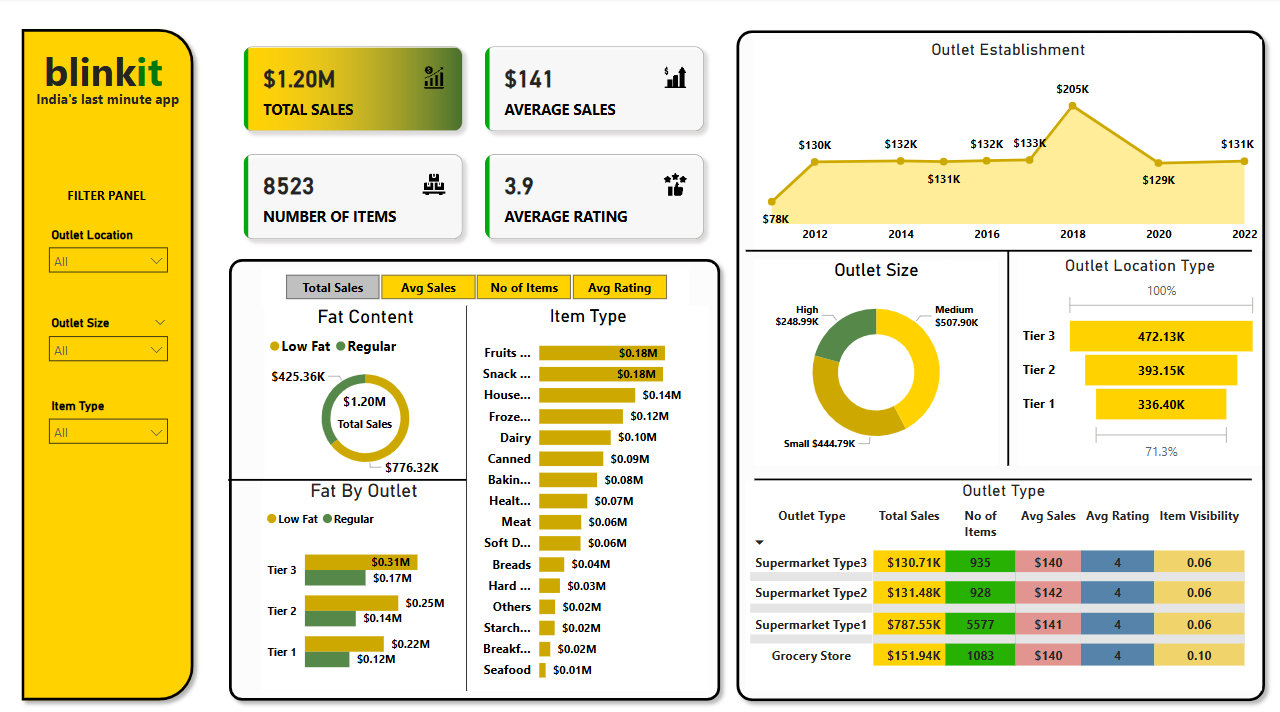

Layout of this report page (visuals, bound fields, positions):
{"tool":"powerbi","page":{"name":"Page 1","canvas":[1400,800],"ordinal":0},"visuals":[{"type":"shape","box":[18,25.5,205.6,750.4],"z":0},{"type":"textbox","box":[46.5,46.5,150.1,124.6],"z":1000},{"type":"textbox","box":[30,96.1,181.6,48],"z":2000},{"type":"cardVisual","fields":{"Data":["BlinkIT Grocery Data.Total Sales","BlinkIT Grocery Data.Avg Sales","BlinkIT Grocery Data.No of Items","BlinkIT Grocery Data.Avg Rating"]},"box":[252.2,36.8,537.2,245.4],"z":3000},{"type":"shape","box":[244.6,276.2,553.8,499.8],"z":4000},{"type":"donutChart","title":"Fat Content","fields":{"Y":["BlinkIT Grocery Data.Total Sales"],"Category":["BlinkIT Grocery Data.Item Fat Content"]},"box":[291.2,336.2,220.6,190.6],"z":5000},{"type":"slicer","fields":{"Values":["Metrics.Metrics"]},"box":[289.7,295.7,465.3,40.5],"z":6000},{"type":"card","fields":{"Values":["BlinkIT Grocery Data.Total Sales"]},"box":[360.2,421.7,82.5,60],"z":7000},{"type":"clusteredBarChart","title":"Fat By Outlet","fields":{"Y":["BlinkIT Grocery Data.Total Sales"],"Category":["BlinkIT Grocery Data.Outlet Location Type"],"Series":["BlinkIT Grocery Data.Item Fat Content"]},"box":[289.7,526.8,222.1,229.6],"z":8000},{"type":"shape","box":[252.1,276.2,259.6,499.8],"z":9000},{"type":"shape","box":[235.6,336.2,553.8,420.2],"z":10000},{"type":"barChart","title":"Item Type","fields":{"Y":["BlinkIT Grocery Data.Total Sales"],"Category":["BlinkIT Grocery Data.Item Type"]},"box":[513.3,336.2,264.2,420.2],"z":11000},{"type":"shape","box":[797.6,27.3,594.4,749.8],"z":12000},{"type":"lineChart","title":"Outlet Establishment","fields":{"Y":["BlinkIT Grocery Data.Total Sales"],"Category":["BlinkIT Grocery Data.Outlet Establishment Year"]},"box":[826.2,46.4,553.5,230.4],"z":13000},{"type":"shape","box":[816.6,126.8,552.2,299.9],"z":14000},{"type":"donutChart","title":" Outlet Size","fields":{"Y":["BlinkIT Grocery Data.Total Sales"],"Category":["BlinkIT Grocery Data.Outlet Size"]},"box":[826.2,286.3,265.9,225],"z":14001},{"type":"shape","box":[953,276.8,299.9,234.5],"z":14002},{"type":"funnel","title":" Outlet Location Type","fields":{"Y":["Sum(BlinkIT Grocery Data.Sales)"],"Category":["BlinkIT Grocery Data.Outlet Location Type"]},"box":[1113.8,282.2,265.9,229],"z":14003},{"type":"shape","box":[826.2,376.3,542.6,299.9],"z":14004},{"type":"pivotTable","title":"Outlet Type","fields":{"Rows":["BlinkIT Grocery Data.Outlet Type"],"Values":["BlinkIT Grocery Data.Total Sales","BlinkIT Grocery Data.No of Items","BlinkIT Grocery Data.Avg Sales","BlinkIT Grocery Data.Avg Rating","Avg(BlinkIT Grocery Data.Item Visibility)"]},"box":[816.6,527.6,563.1,229],"z":14005},{"type":"slicer","fields":{"Values":["BlinkIT Grocery Data.Outlet Location Type"]},"box":[46.4,246.8,150,77.7],"z":14006},{"type":"slicer","fields":{"Values":["BlinkIT Grocery Data.Outlet Size"]},"box":[46.4,343.6,150,77.7],"z":14007},{"type":"slicer","fields":{"Values":["BlinkIT Grocery Data.Item Type"]},"box":[46.4,433.5,150,77.7],"z":14008},{"type":"textbox","box":[46.4,201.8,150,45],"z":14009}]}

Visuals, with their boxes in screenshot pixels (x1, y1, x2, y2), scaled from the page's 1400x800 canvas onto the 1280x712 screenshot:
shape: <box>16,23,204,691</box>
textbox: <box>43,41,180,152</box>
textbox: <box>27,86,193,128</box>
cardVisual - BlinkIT Grocery Data.Total Sales x BlinkIT Grocery Data.Avg Sales: <box>231,33,722,251</box>
shape: <box>224,246,730,691</box>
"Fat Content" donutChart: <box>266,299,468,469</box>
slicer - Metrics.Metrics: <box>265,263,690,299</box>
card - BlinkIT Grocery Data.Total Sales: <box>329,375,405,429</box>
"Fat By Outlet" clusteredBarChart: <box>265,469,468,673</box>
shape: <box>230,246,468,691</box>
shape: <box>215,299,722,673</box>
"Item Type" barChart: <box>469,299,711,673</box>
shape: <box>729,24,1273,692</box>
"Outlet Establishment" lineChart: <box>755,41,1261,246</box>
shape: <box>747,113,1251,380</box>
" Outlet Size" donutChart: <box>755,255,998,455</box>
shape: <box>871,246,1146,455</box>
" Outlet Location Type" funnel: <box>1018,251,1261,455</box>
shape: <box>755,335,1251,602</box>
"Outlet Type" pivotTable: <box>747,470,1261,673</box>
slicer - BlinkIT Grocery Data.Outlet Location Type: <box>42,220,180,289</box>
slicer - BlinkIT Grocery Data.Outlet Size: <box>42,306,180,375</box>
slicer - BlinkIT Grocery Data.Item Type: <box>42,386,180,455</box>
textbox: <box>42,180,180,220</box>
